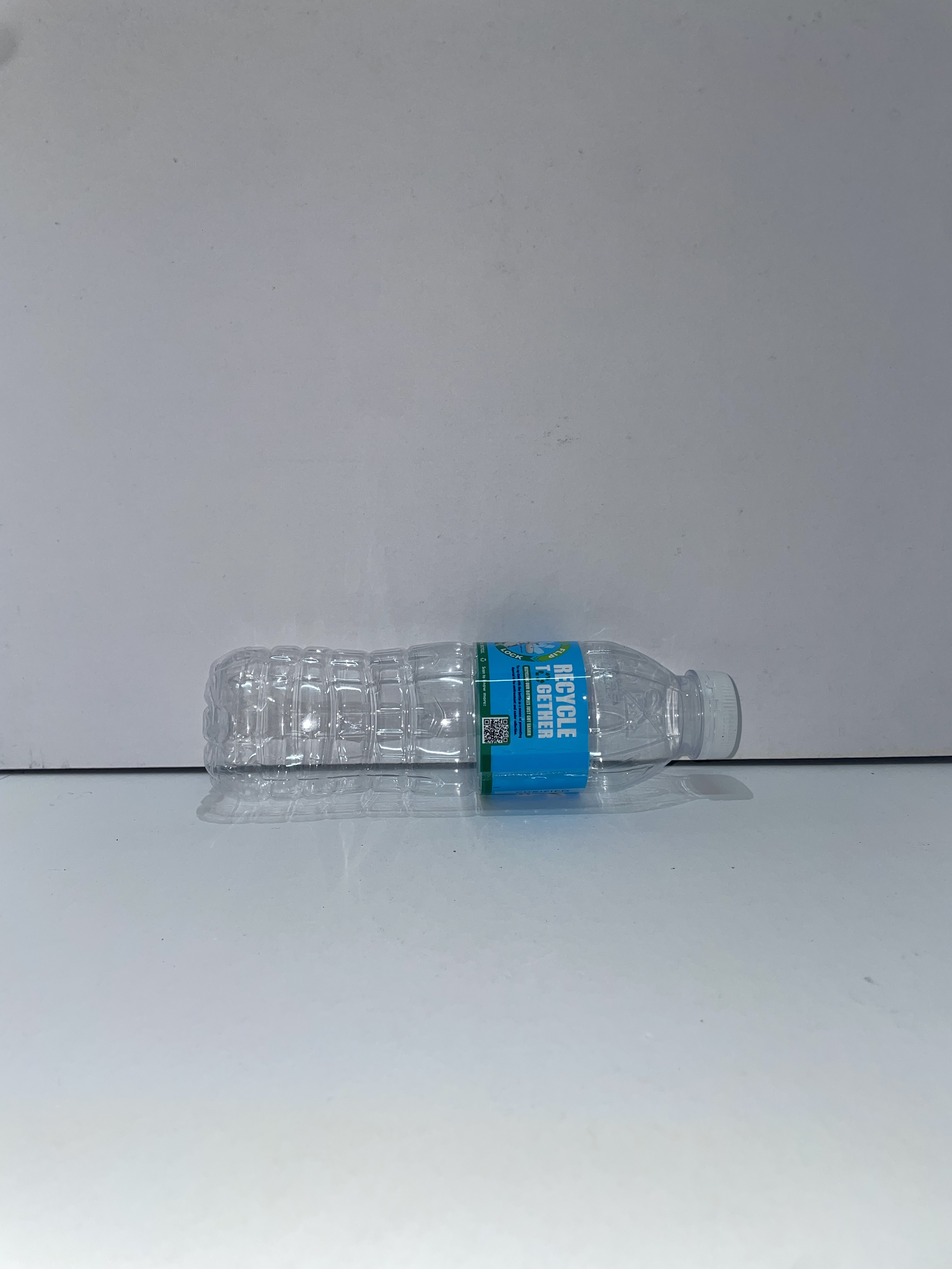natures spring 500ml: (204, 641, 742, 803)
